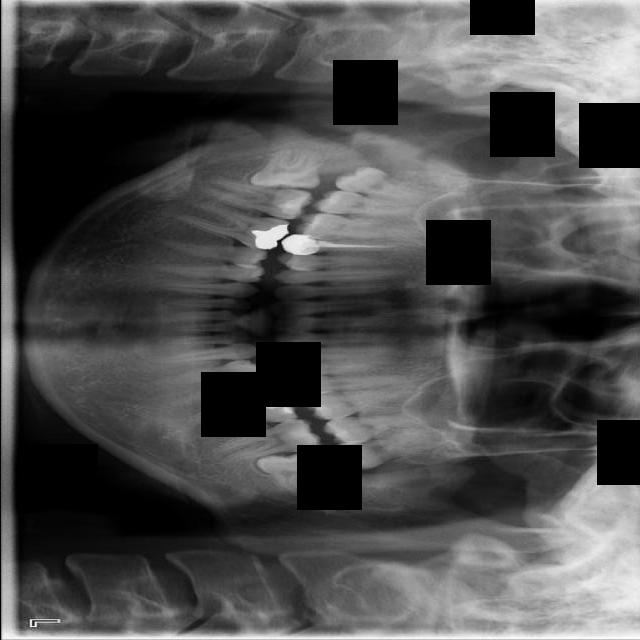3M ESPE Implant: (332, 160, 441, 206)
52: (237, 204, 294, 262), (243, 380, 301, 435), (265, 180, 316, 230), (280, 233, 335, 258)
73: (324, 239, 400, 253), (50, 608, 58, 612)
BioHorizons Implant: (320, 410, 428, 447)
BioLife Implant: (330, 428, 434, 475)
Biomet 3i Implant: (255, 452, 332, 501)
Blue Sky Bio Implant: (211, 414, 323, 467)
Caries: (311, 188, 423, 218)
Implant: (206, 177, 315, 223)
Keystone Dental Implant: (247, 148, 321, 190)
